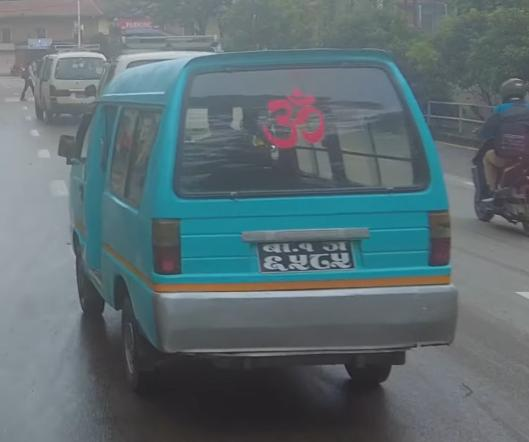van: (49, 44, 466, 408)
